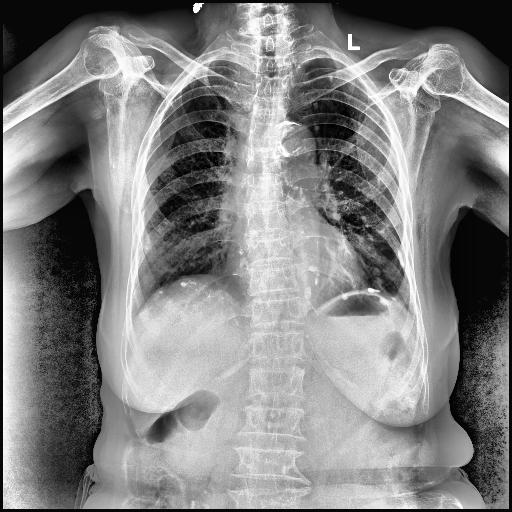0- Aortic enlargement: (264, 118, 316, 175), (270, 118, 317, 181), (274, 121, 316, 156)
11- Pleural thickening: (299, 59, 315, 73), (205, 60, 232, 67)
13- Pulmonary fibrosis: (223, 120, 233, 169), (396, 248, 405, 270), (378, 170, 384, 190)
2- Calcification: (274, 121, 300, 159), (397, 246, 408, 274), (394, 246, 406, 270), (366, 286, 384, 294), (367, 286, 382, 294), (366, 288, 380, 293)
8- Nodule-Mass: (371, 266, 383, 288), (372, 276, 382, 290), (145, 238, 155, 250), (371, 266, 382, 276), (373, 279, 383, 288), (332, 212, 342, 220), (372, 267, 380, 276), (360, 215, 368, 224), (313, 124, 322, 132), (180, 281, 190, 288), (360, 216, 368, 224), (314, 272, 319, 284), (341, 292, 348, 300), (238, 248, 245, 255), (313, 102, 319, 110), (329, 76, 335, 84), (314, 101, 319, 110), (391, 296, 397, 302), (328, 77, 334, 82), (227, 253, 233, 258), (339, 190, 344, 195), (338, 190, 344, 194), (330, 76, 333, 82), (343, 296, 347, 300), (220, 70, 222, 74)
